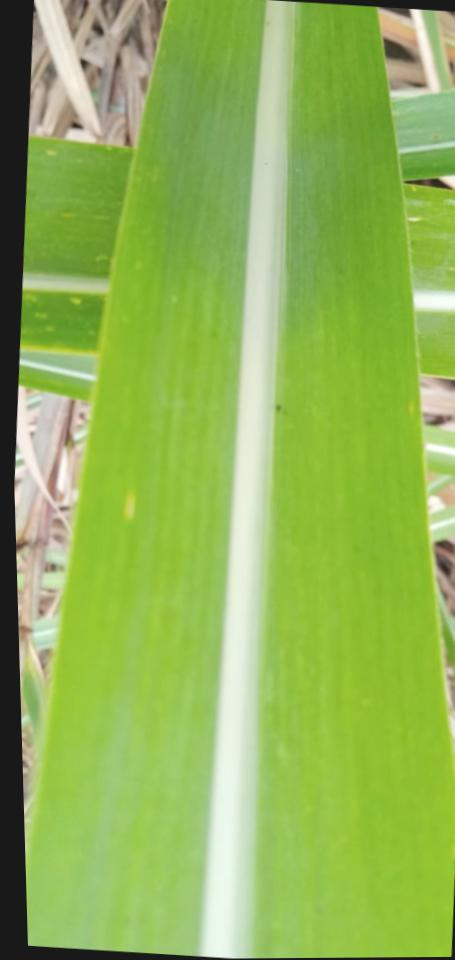Healthy: (24, 0, 455, 958), (20, 138, 134, 352), (404, 186, 455, 378)
